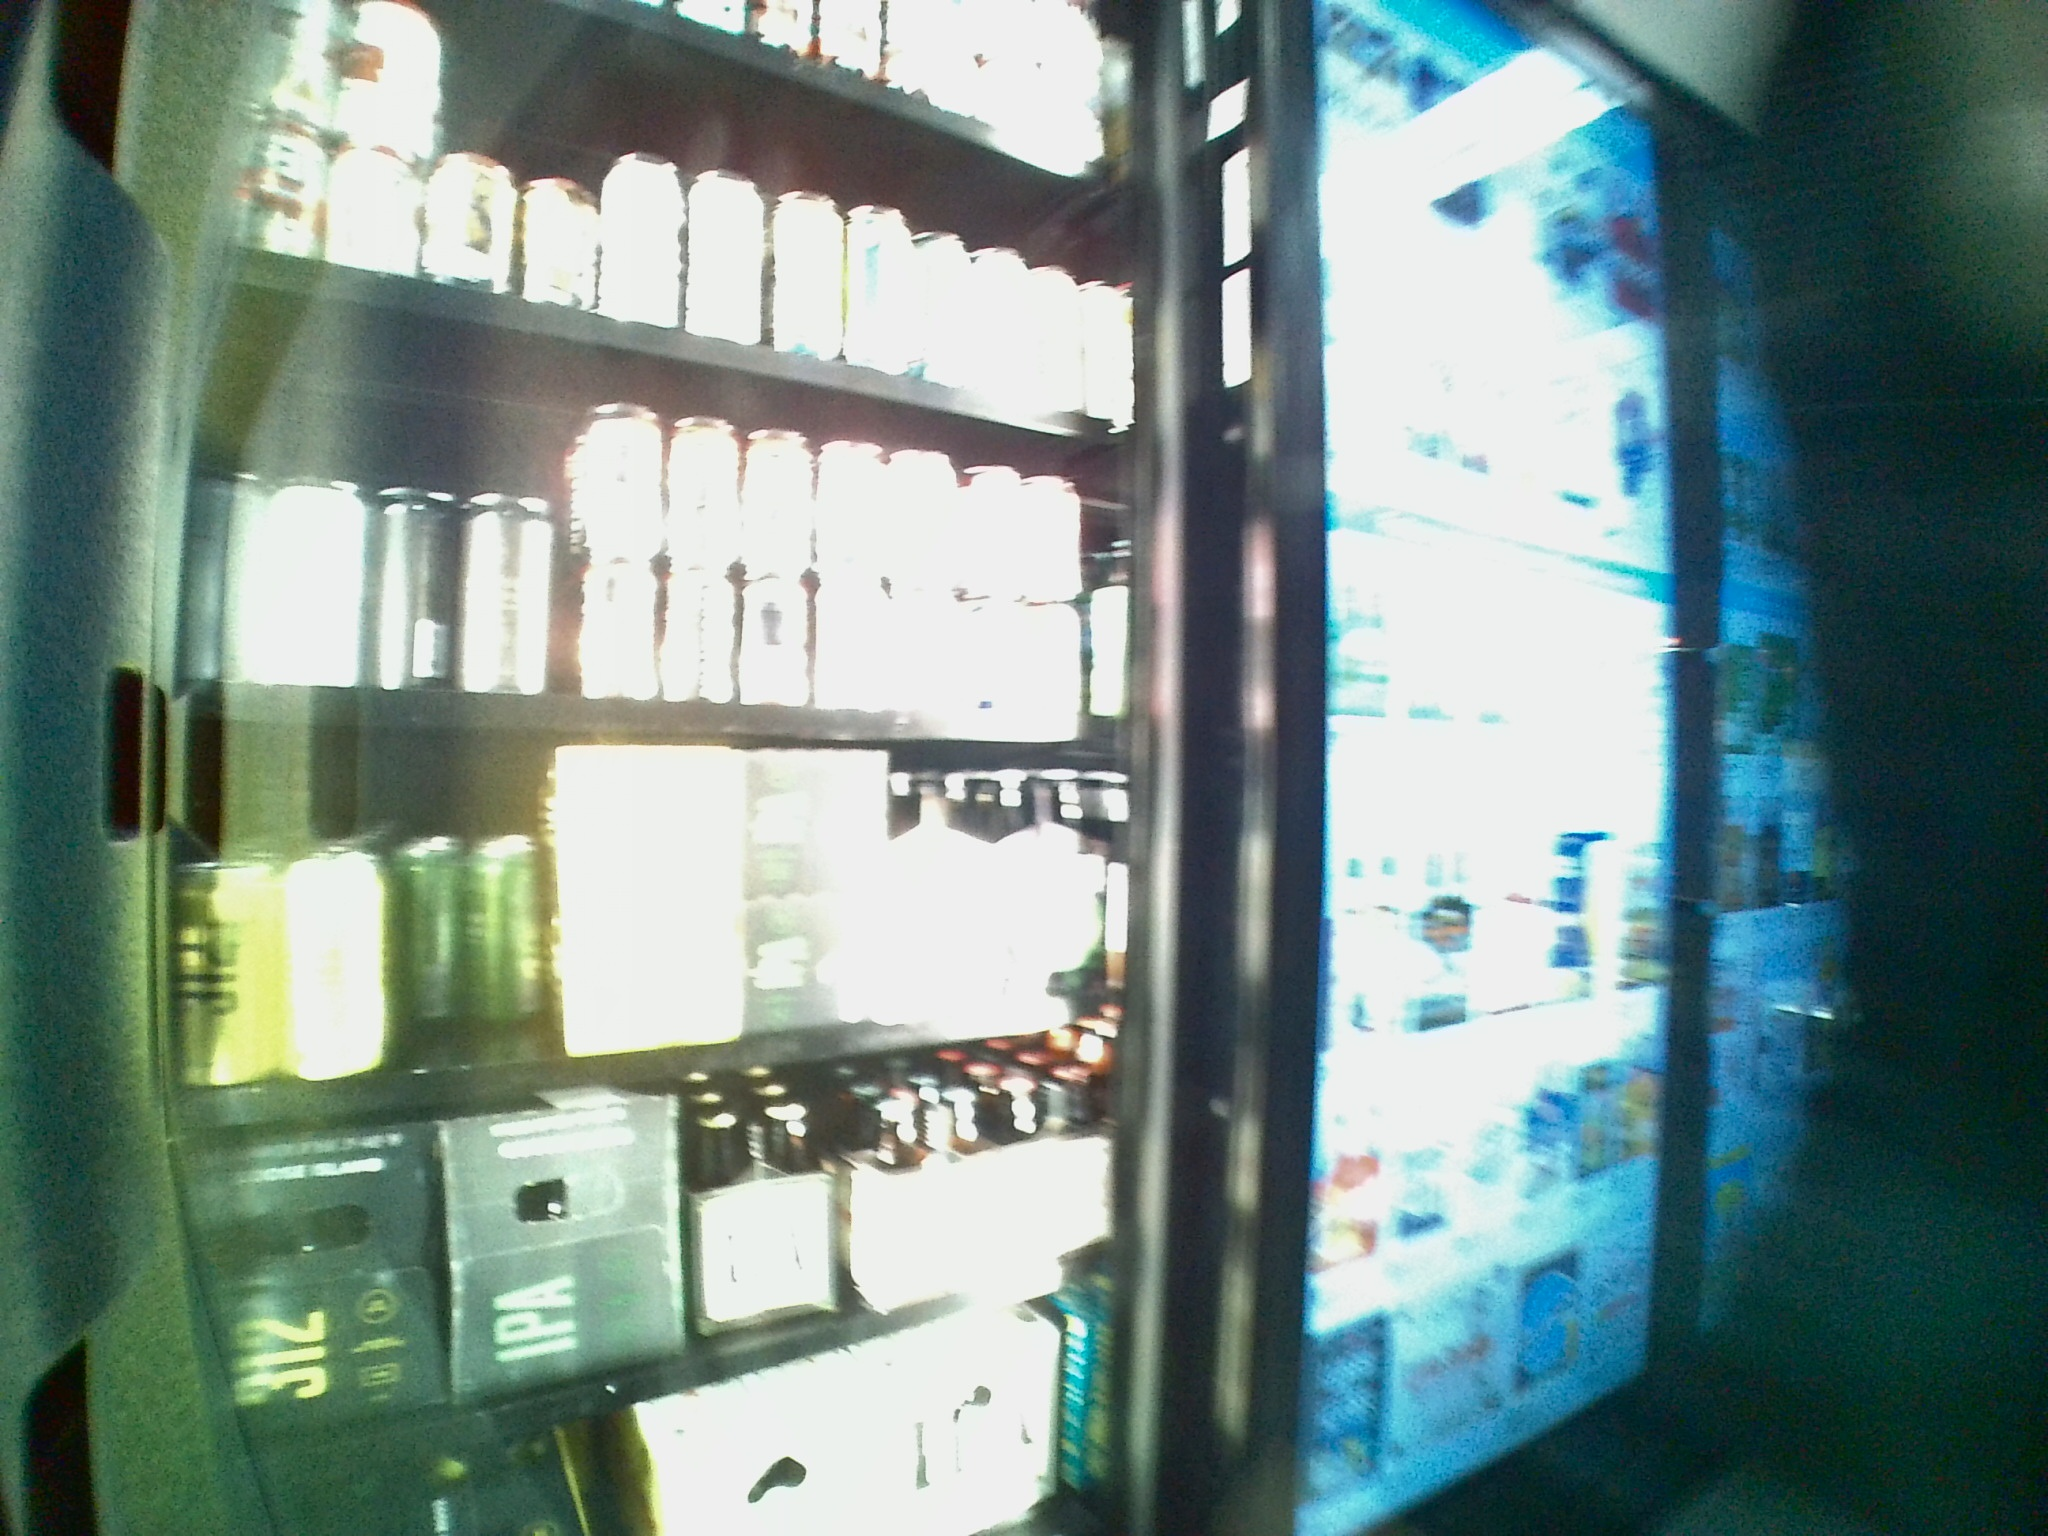shelf: (203, 382, 1114, 733), (192, 721, 1135, 1050), (177, 1058, 1138, 1379)
